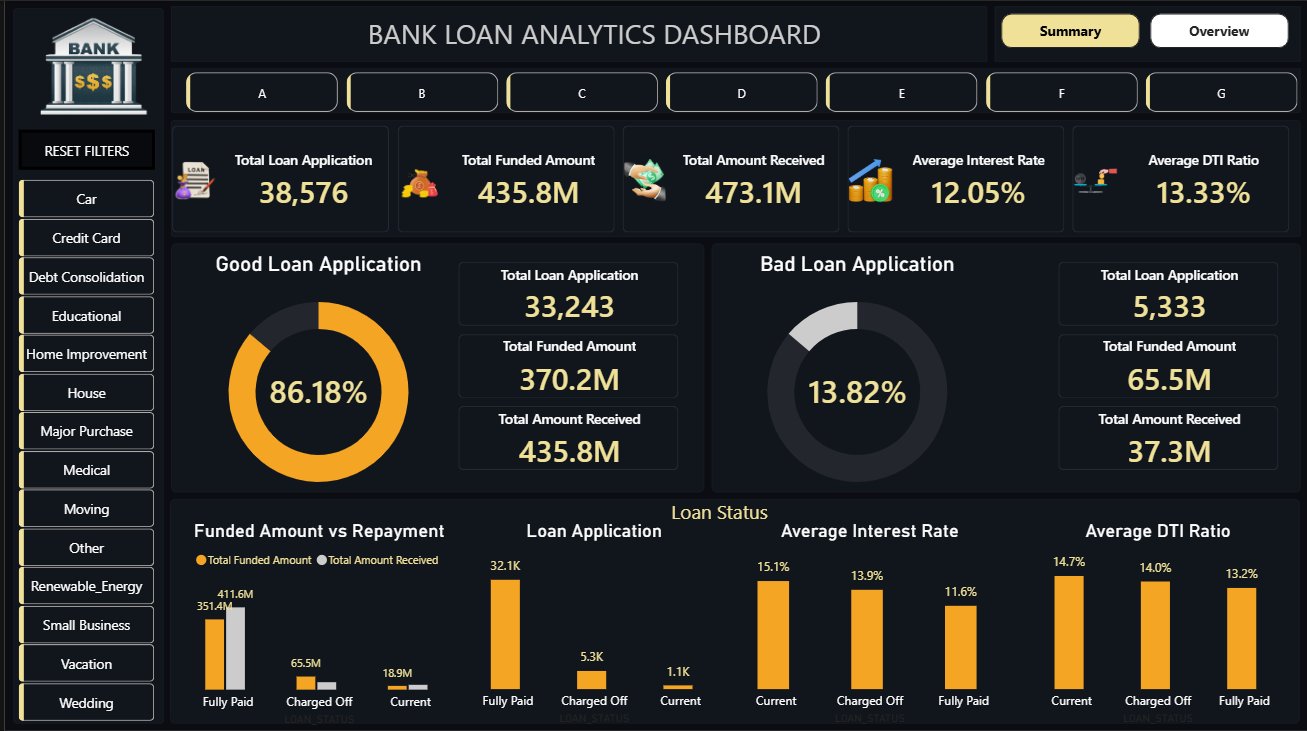

What the dashboard file says about the page in this screenshot:
{"tool":"powerbi","page":{"name":"Summary","canvas":[1280,720],"ordinal":0},"visuals":[{"type":"cardVisual","fields":{"Data":["financial_loan.Total Aplicant","financial_loan.Total Loan Amount","financial_loan.Total Amount Received","financial_loan.Average Interest Rate","financial_loan.Avg DTI"]},"box":[147.3,105.6,1133,139.9],"z":0},{"type":"donutChart","title":"Good Loan Application","fields":{"Category":["financial_loan.Good_vs_Bad_Loan"],"Y":["financial_loan.Total Loan Application"]},"box":[173.1,245.5,270,254.1],"z":1000},{"type":"donutChart","title":"Bad Loan Application","fields":{"Category":["financial_loan.Good_vs_Bad_Loan"],"Y":["financial_loan.Total Loan Application"]},"box":[702.1,245.5,270,254.1],"z":2000},{"type":"cardVisual","fields":{"Data":["financial_loan.Good Loan %"]},"box":[227.1,332.6,162,98.2],"z":3000},{"type":"cardVisual","fields":{"Data":["financial_loan.Bad Loan %"]},"box":[757.3,331.4,160.8,99.4],"z":4000},{"type":"cardVisual","fields":{"Data":["financial_loan.Total Aplicant","financial_loan.Total Loan Amount","financial_loan.Total Amount Received"],"Rows":["financial_loan.Good_vs_Bad_Loan"]},"box":[428.4,160.8,250.4,338.8],"z":5000},{"type":"cardVisual","fields":{"Data":["financial_loan.Total Aplicant","financial_loan.Total Loan Amount","financial_loan.Total Amount Received"],"Rows":["financial_loan.Good_vs_Bad_Loan"]},"box":[1017.6,160.8,250.4,338.8],"z":6000},{"type":"advancedSlicerVisual","fields":{"Values":["financial_loan.GRADE"]},"box":[173.1,70,1107.2,39.3],"z":7000},{"type":"clusteredColumnChart","title":"Funded Amount vs Repayment","fields":{"Category":["financial_loan.LOAN_STATUS"],"Y":["financial_loan.Total Funded Amount","financial_loan.Total Amount Received"]},"box":[160.8,509.4,295.8,201.3],"z":8000},{"type":"clusteredColumnChart","title":"Loan Application","fields":{"Category":["financial_loan.LOAN_STATUS"],"Y":["financial_loan.Total Loan Application"]},"box":[443.1,509.4,271.3,201.3],"z":9000},{"type":"textbox","box":[649.3,483.6,130.1,50.3],"z":10000},{"type":"clusteredColumnChart","title":"Average Interest Rate","fields":{"Category":["financial_loan.LOAN_STATUS"],"Y":["financial_loan.Average Interest Rate"]},"box":[702.1,509.4,294.6,201.3],"z":11000},{"type":"clusteredColumnChart","title":"Average DTI Ratio","fields":{"Category":["financial_loan.LOAN_STATUS"],"Y":["financial_loan.Average DTI Ratio"]},"box":[996.7,509.4,271.3,201.3],"z":12000},{"type":"image","box":[13.5,12.3,147.3,103.1],"z":13000},{"type":"textbox","box":[292.1,8.6,573.2,61.4],"z":14000},{"type":"advancedSlicerVisual","fields":{"Values":["financial_loan.PURPOSE"]},"box":[13.5,175.5,133.8,545],"z":15000},{"type":"actionButton","box":[13.5,126.4,133.8,39.3],"z":16000},{"type":"pageNavigator","box":[978.3,12.3,283.5,34.4],"z":16001}]}

Visuals, with their boxes in screenshot pixels (x1, y1, x2, y2), scaled from the page's 1280x720 canvas onto the 1307x731 screenshot:
cardVisual - financial_loan.Total Aplicant x financial_loan.Total Loan Amount: 150,107,1306,249
"Good Loan Application" donutChart: 177,249,452,507
"Bad Loan Application" donutChart: 717,249,993,507
cardVisual - financial_loan.Good Loan %: 232,338,397,437
cardVisual - financial_loan.Bad Loan %: 773,336,937,437
cardVisual - financial_loan.Total Aplicant x financial_loan.Total Loan Amount: 437,163,693,507
cardVisual - financial_loan.Total Aplicant x financial_loan.Total Loan Amount: 1039,163,1295,507
advancedSlicerVisual - financial_loan.GRADE: 177,71,1306,111
"Funded Amount vs Repayment" clusteredColumnChart: 164,517,466,722
"Loan Application" clusteredColumnChart: 452,517,729,722
textbox: 663,491,796,542
"Average Interest Rate" clusteredColumnChart: 717,517,1018,722
"Average DTI Ratio" clusteredColumnChart: 1018,517,1295,722
image: 14,12,164,117
textbox: 298,9,884,71
advancedSlicerVisual - financial_loan.PURPOSE: 14,178,150,730
actionButton: 14,128,150,168
pageNavigator: 999,12,1288,47
